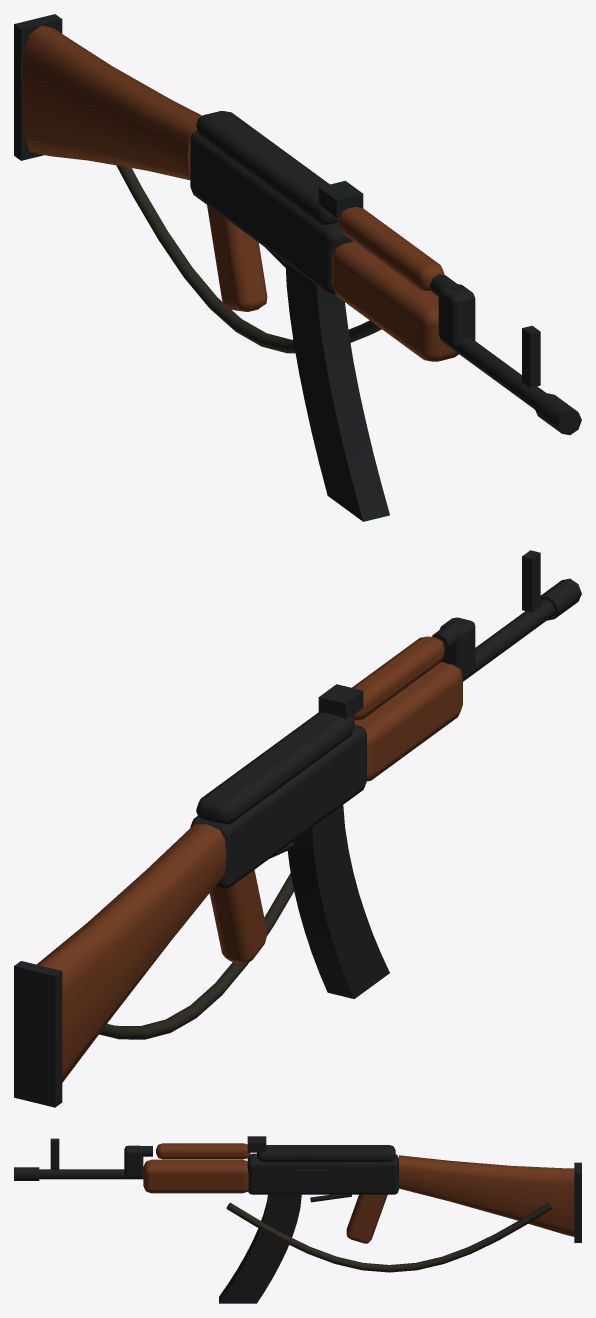
File: FusilAK.obj
3 renders of one model, top to bottom at view 1: azimuth 30°, elevation 25°; view 2: azimuth 150°, elevation 25°; view 3: azimuth 270°, elevation 25°, orthographic. The views are drawn at different scales.
Visible parts, largest first — view 1: Fusil_Metal_Noirci, Fusil_Bois, Fusil_Bretelle; view 2: Fusil_Metal_Noirci, Fusil_Bois, Fusil_Bretelle; view 3: Fusil_Bois, Fusil_Metal_Noirci, Fusil_Bretelle.
Boxes of the visible parts, bbox=[...] form: Fusil_Metal_Noirci: bbox=[14, 14, 581, 521]; Fusil_Bois: bbox=[22, 25, 458, 361]; Fusil_Bretelle: bbox=[116, 165, 381, 353]; Fusil_Metal_Noirci: bbox=[14, 550, 581, 1107]; Fusil_Bois: bbox=[36, 636, 462, 1082]; Fusil_Bretelle: bbox=[99, 873, 294, 1039]; Fusil_Bois: bbox=[143, 1143, 574, 1243]; Fusil_Metal_Noirci: bbox=[14, 1136, 581, 1303]; Fusil_Bretelle: bbox=[226, 1202, 552, 1272].
Bounding box in the file's own units: 0.048 × 0.28 × 0.9.
